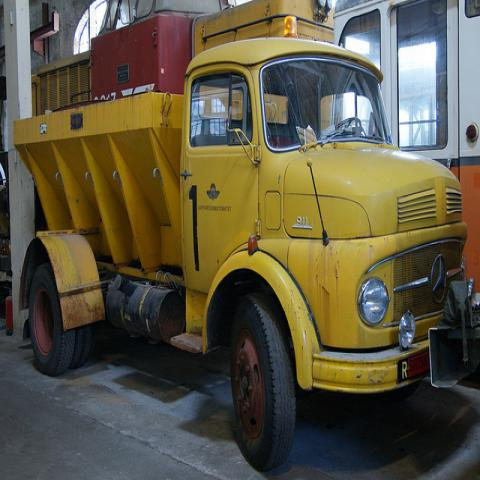truck: (14, 1, 472, 474)
